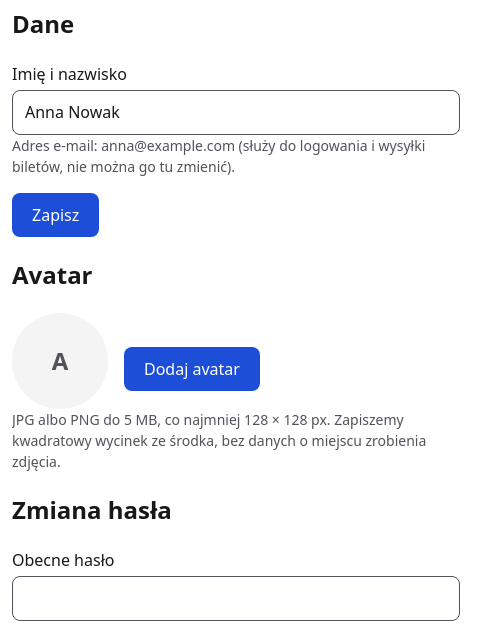
it: profil i hasło › zmiana imienia trafia do sesji (nagłówek widzi nowe imię od razu)
Replace the text in the field labelled "Imię i nazwisko" with "Anna Kowalska" at (236, 112), box [12,90,460,135]
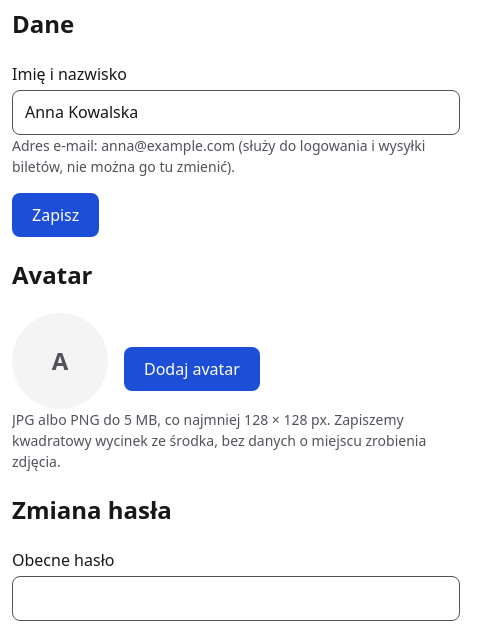
Submit the form with test id "profile-form", box [12,62,460,237]
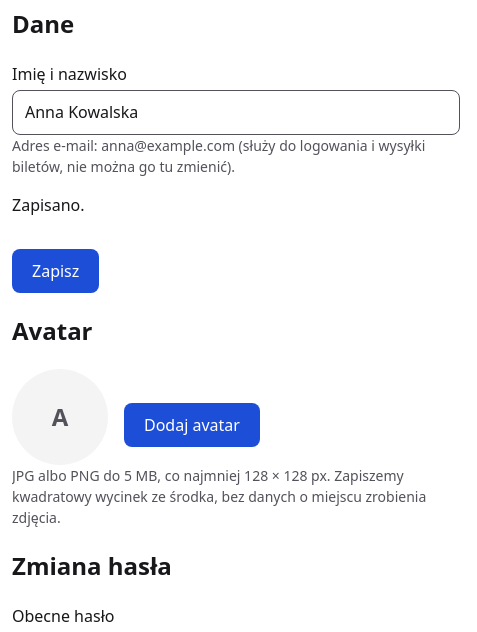
Expected: the message "Zapisano." is shown, [12,194,85,216]
